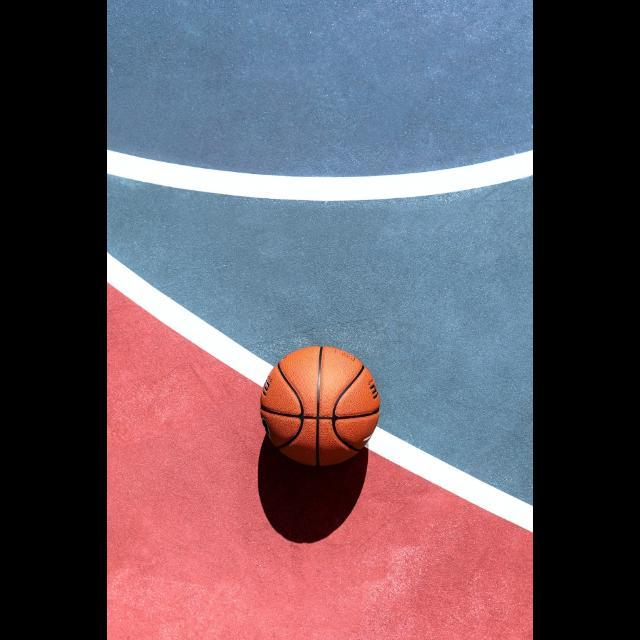basketball: (262, 348, 378, 466)
